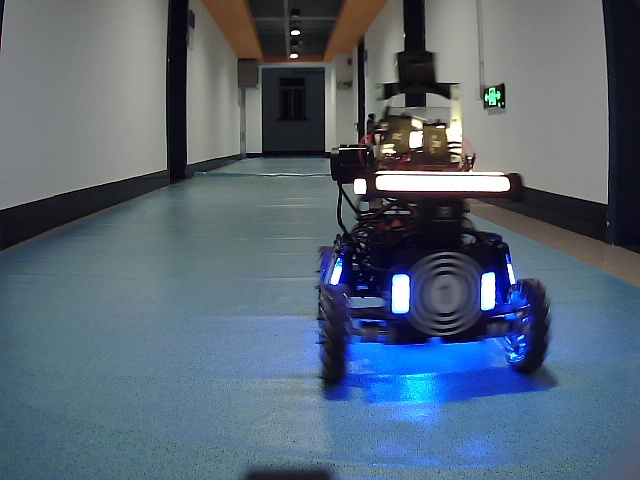lamp: (390, 271, 411, 314), (480, 272, 496, 312), (329, 259, 346, 291), (506, 261, 520, 290)
pair: (391, 272, 495, 310)
